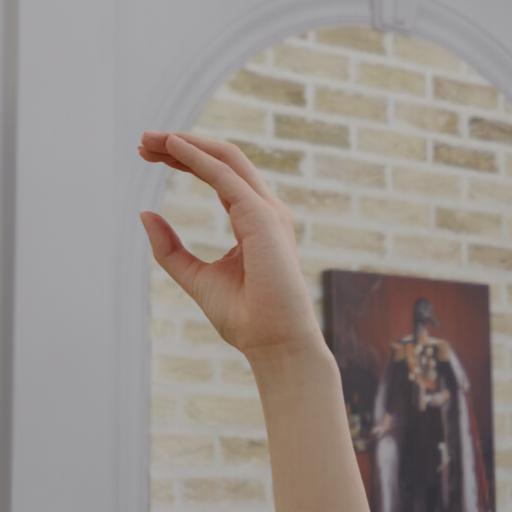C: (124, 121, 312, 361)
